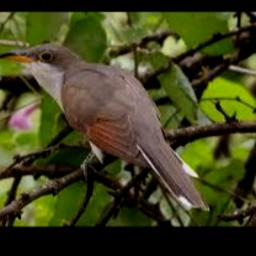Cuckoo: (0, 43, 209, 211)
